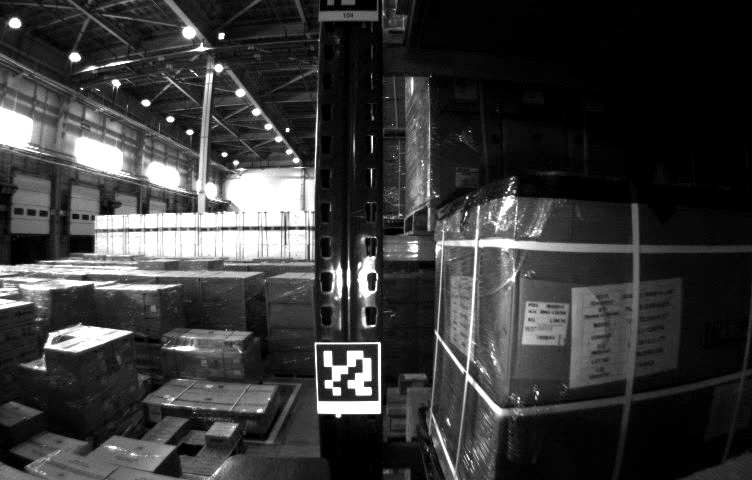True Barcode: (522, 296, 569, 347)
